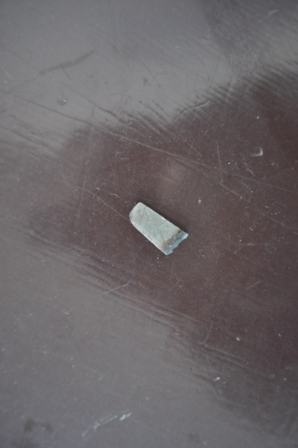METAL PIECE: (128, 201, 190, 256)
